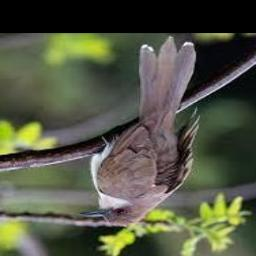Cuckoo: (80, 37, 202, 226)
